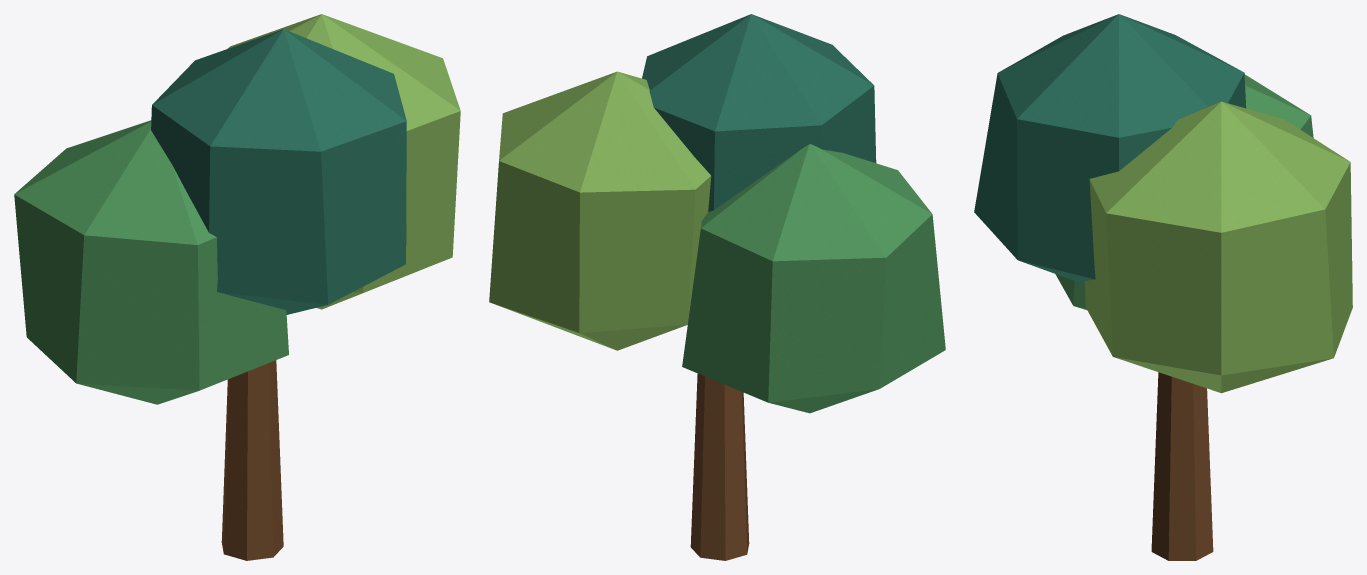
The model's file is innerscene-angular-deciduous.glb.
3 renders of one model, left to right at view 1: azimuth 30°, elevation 25°; view 2: azimuth 150°, elevation 25°; view 3: azimuth 270°, elevation 25°, orthographic. The views are drawn at different scales.
Visible parts, largest first — view 1: Polygon canopy 004, Polygon canopy 002, Polygon canopy 003, Faceted trunk 001; view 2: Polygon canopy 002, Polygon canopy 003, Polygon canopy 004, Faceted trunk 001; view 3: Polygon canopy 003, Polygon canopy 004, Faceted trunk 001, Polygon canopy 002.
Part boxes in pixels (box(x1,y1,x2,y2)): Polygon canopy 004: box(151, 29, 406, 314); Polygon canopy 002: box(14, 120, 288, 404); Polygon canopy 003: box(227, 14, 460, 309); Faceted trunk 001: box(221, 360, 283, 560); Polygon canopy 002: box(682, 144, 945, 413); Polygon canopy 003: box(489, 71, 711, 350); Polygon canopy 004: box(642, 14, 876, 211); Faceted trunk 001: box(690, 373, 749, 560); Polygon canopy 003: box(1085, 101, 1352, 393); Polygon canopy 004: box(974, 14, 1246, 284); Faceted trunk 001: box(1151, 372, 1213, 560); Polygon canopy 002: box(1055, 74, 1313, 309).
Bounding box in the file's own units: 3.12 × 3.87 × 2.48.
4 materials, 4 textured.
